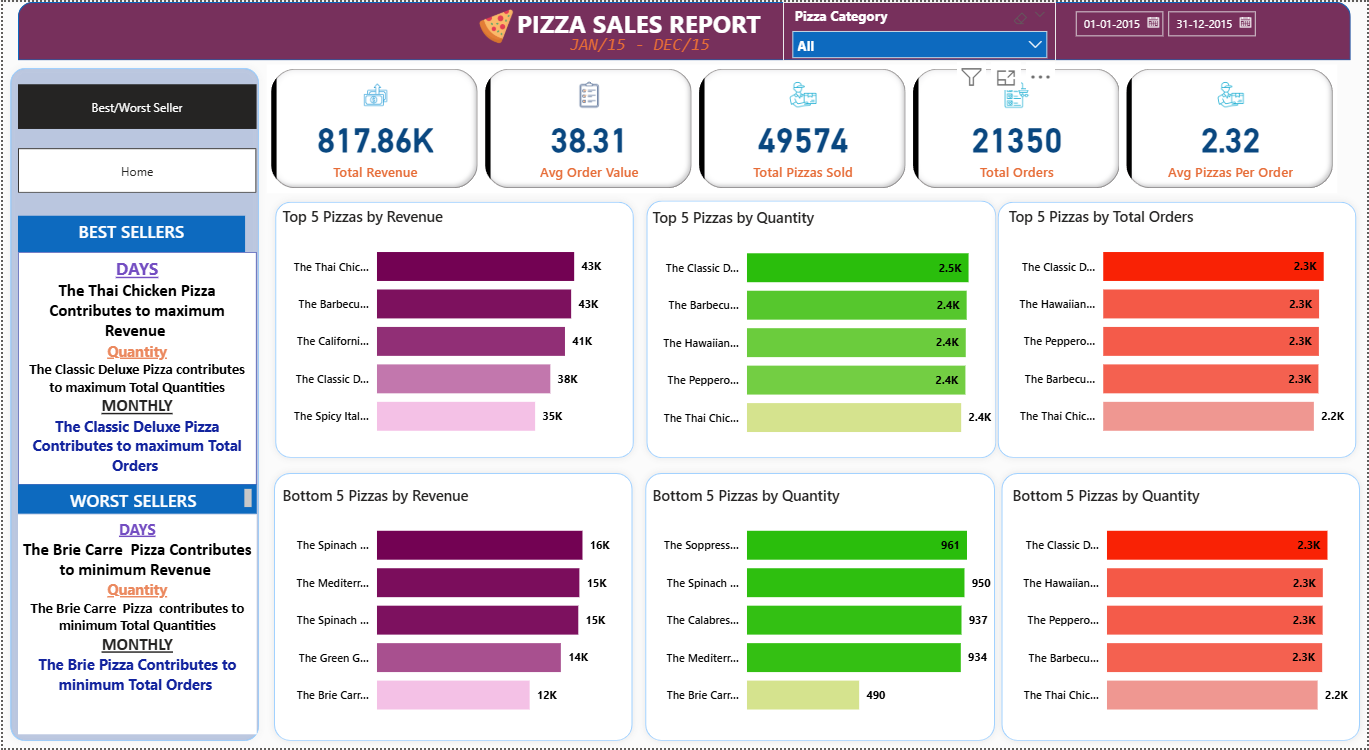

What the dashboard file says about the page in this screenshot:
{"tool":"powerbi","page":{"name":"Best/Worst Seller","canvas":[1500,820],"ordinal":1},"visuals":[{"type":"cardVisual","fields":{"Data":["pizza_sales.Total Revenue","pizza_sales.Avg Order Value","pizza_sales.Total Pizzas Sold","pizza_sales.Total Orders","pizza_sales.Avg Pizzas Per Order"]},"box":[289.5,69.1,1177.1,141.5],"z":0},{"type":"shape","box":[16.1,0,1464.9,64.3],"z":1000},{"type":"textbox","box":[541.9,0,315.2,49.9],"z":2000},{"type":"textbox","box":[611.1,32.2,176.9,37],"z":3000},{"type":"image","box":[513,3.2,59.5,48.2],"z":4000},{"type":"shape","box":[291.1,212.3,410.1,297.5],"z":5000},{"type":"shape","box":[0,64.3,289.5,755.8],"z":14000},{"type":"textbox","box":[16.1,234.8,249.3,40.2],"z":15000},{"type":"textbox","box":[16.1,275,262.1,255.7],"z":17000},{"type":"textbox","box":[16.1,530.7,262.1,32.2],"z":18000},{"type":"textbox","box":[16.1,562.8,262.1,241.2],"z":19000},{"type":"slicer","fields":{"Values":["pizza_sales.pizza_category"]},"box":[857.1,0,300.7,64.3],"z":20000},{"type":"slicer","fields":{"Values":["pizza_sales.order_date"]},"box":[1165.8,0,300.7,67.5],"z":21000},{"type":"shape","box":[699.5,210.7,400.4,299.1],"z":21001},{"type":"shape","box":[1085.4,212.3,410.1,297.5],"z":21002},{"type":"shape","box":[289.5,509.8,410.1,310.4],"z":21003},{"type":"shape","box":[697.9,509.8,400.4,310.4],"z":21004},{"type":"shape","box":[1090.3,509.8,410.1,310.4],"z":21005},{"type":"barChart","title":"Top 5 Pizzas by Revenue","fields":{"Category":["pizza_sales.pizza_name"],"Y":["pizza_sales.Total Revenue"]},"box":[302.3,223.5,382.7,270.2],"z":21006},{"type":"barChart","title":"Bottom 5 Pizzas by Revenue","fields":{"Category":["pizza_sales.pizza_name"],"Y":["pizza_sales.Total Revenue"]},"box":[302.3,530.7,382.7,270.2],"z":21007},{"type":"barChart","title":"Top 5 Pizzas by Quantity","fields":{"Category":["pizza_sales.pizza_name"],"Y":["pizza_sales.Total Pizzas Sold"]},"box":[709.2,225.1,382.7,270.2],"z":21008},{"type":"barChart","title":"Bottom 5 Pizzas by Quantity","fields":{"Category":["pizza_sales.pizza_name"],"Y":["pizza_sales.Total Pizzas Sold"]},"box":[709.2,530.7,382.7,270.2],"z":21009},{"type":"barChart","title":"Top 5 Pizzas by Total Orders","fields":{"Category":["pizza_sales.pizza_name"],"Y":["pizza_sales.Total Orders"]},"box":[1099.9,223.5,382.7,270.2],"z":21010},{"type":"barChart","title":"Bottom 5 Pizzas by Quantity","fields":{"Category":["pizza_sales.pizza_name"],"Y":["pizza_sales.Total Orders"]},"box":[1104.7,530.7,382.7,270.2],"z":21011},{"type":"pageNavigator","box":[16.1,90.1,262.1,49.9],"z":21012},{"type":"pageNavigator","box":[16.1,160.8,262.1,49.9],"z":21013}]}

Visuals, with their boxes in screenshot pixels (x1, y1, x2, y2), scaled from the page's 1500x820 canvas onto the 1369x750 screenshot:
cardVisual - pizza_sales.Total Revenue x pizza_sales.Avg Order Value: {"x1": 264, "y1": 63, "x2": 1339, "y2": 193}
shape: {"x1": 15, "y1": 0, "x2": 1352, "y2": 59}
textbox: {"x1": 495, "y1": 0, "x2": 782, "y2": 46}
textbox: {"x1": 558, "y1": 29, "x2": 719, "y2": 63}
image: {"x1": 468, "y1": 3, "x2": 523, "y2": 47}
shape: {"x1": 266, "y1": 194, "x2": 640, "y2": 466}
shape: {"x1": 0, "y1": 59, "x2": 264, "y2": 749}
textbox: {"x1": 15, "y1": 215, "x2": 242, "y2": 252}
textbox: {"x1": 15, "y1": 252, "x2": 254, "y2": 485}
textbox: {"x1": 15, "y1": 485, "x2": 254, "y2": 515}
textbox: {"x1": 15, "y1": 515, "x2": 254, "y2": 735}
slicer - pizza_sales.pizza_category: {"x1": 782, "y1": 0, "x2": 1057, "y2": 59}
slicer - pizza_sales.order_date: {"x1": 1064, "y1": 0, "x2": 1338, "y2": 62}
shape: {"x1": 638, "y1": 193, "x2": 1004, "y2": 466}
shape: {"x1": 991, "y1": 194, "x2": 1365, "y2": 466}
shape: {"x1": 264, "y1": 466, "x2": 639, "y2": 749}
shape: {"x1": 637, "y1": 466, "x2": 1002, "y2": 749}
shape: {"x1": 995, "y1": 466, "x2": 1368, "y2": 749}
"Top 5 Pizzas by Revenue" barChart: {"x1": 276, "y1": 204, "x2": 625, "y2": 452}
"Bottom 5 Pizzas by Revenue" barChart: {"x1": 276, "y1": 485, "x2": 625, "y2": 733}
"Top 5 Pizzas by Quantity" barChart: {"x1": 647, "y1": 206, "x2": 997, "y2": 453}
"Bottom 5 Pizzas by Quantity" barChart: {"x1": 647, "y1": 485, "x2": 997, "y2": 733}
"Top 5 Pizzas by Total Orders" barChart: {"x1": 1004, "y1": 204, "x2": 1353, "y2": 452}
"Bottom 5 Pizzas by Quantity" barChart: {"x1": 1008, "y1": 485, "x2": 1358, "y2": 733}
pageNavigator: {"x1": 15, "y1": 82, "x2": 254, "y2": 128}
pageNavigator: {"x1": 15, "y1": 147, "x2": 254, "y2": 193}
